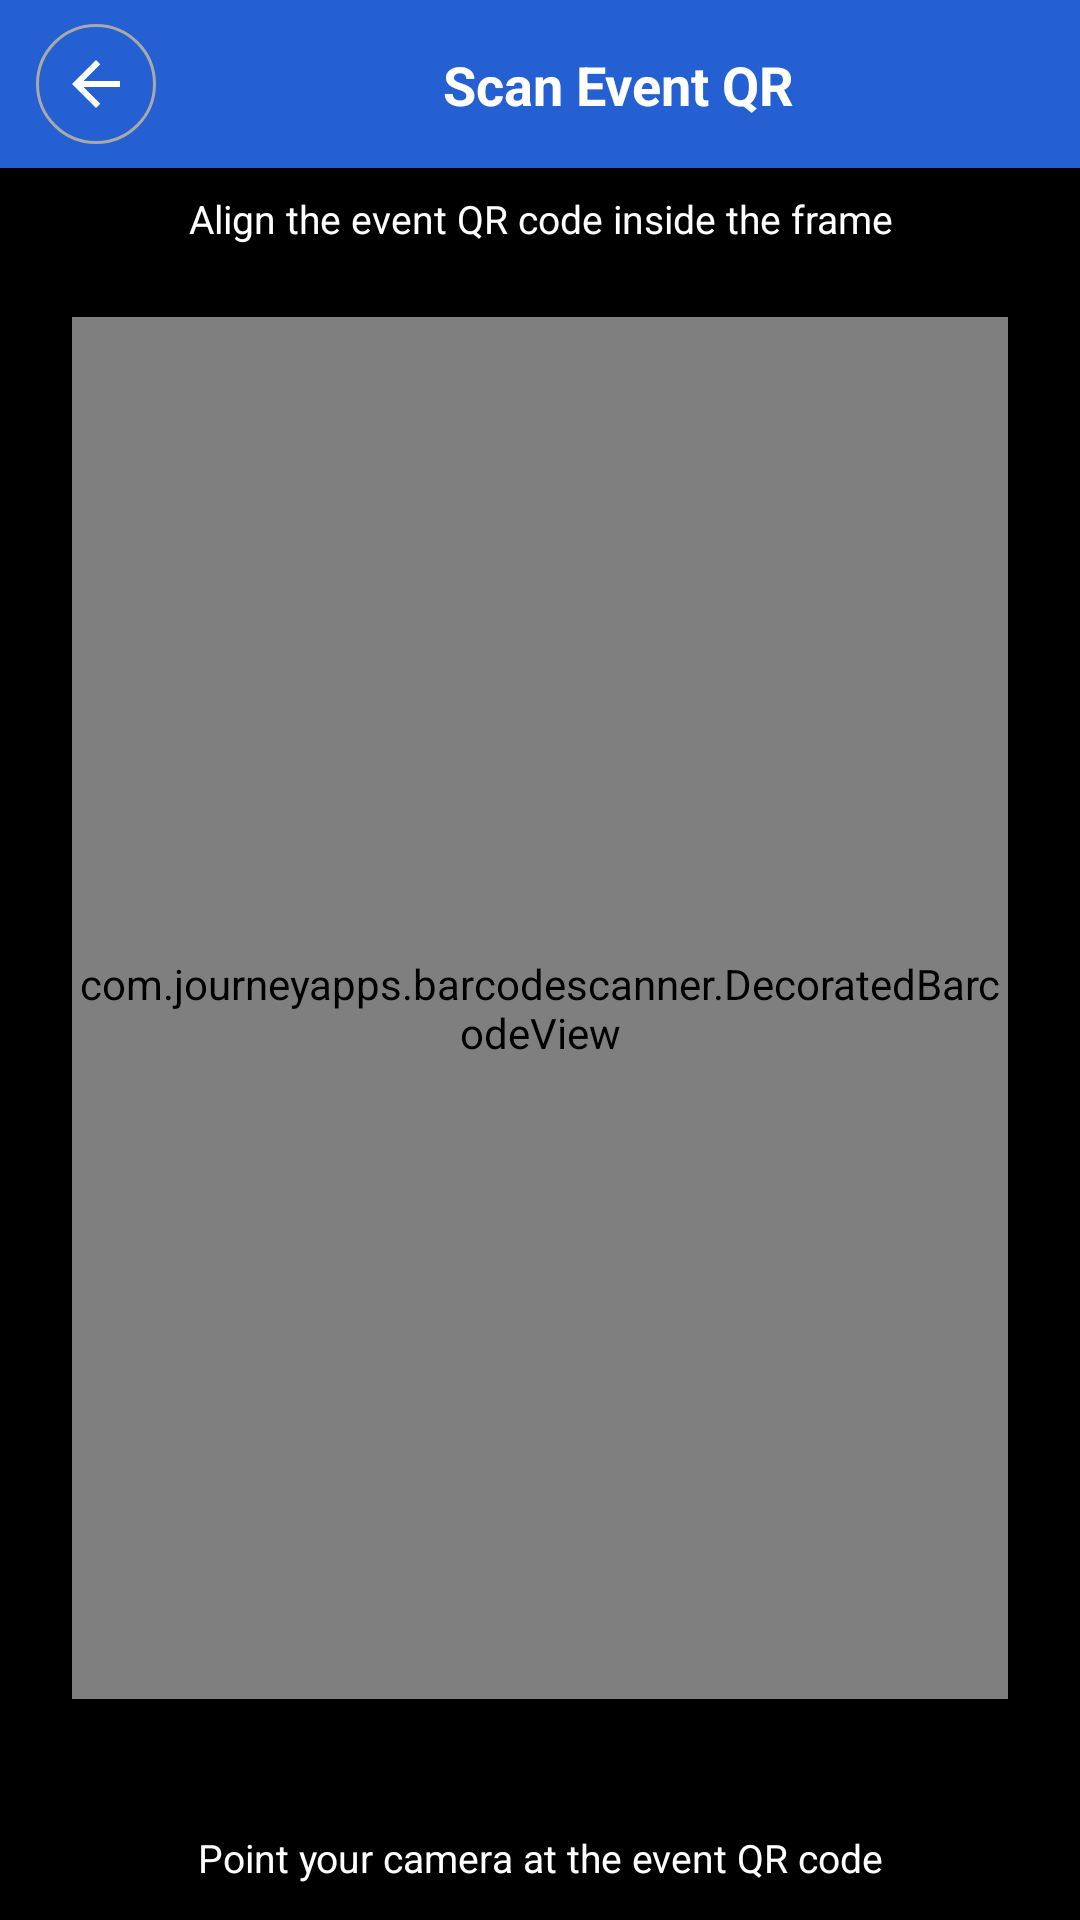

Icon click points for this 1080x1920 phone screenshot, format point (x, y):
arrow back: point (96, 84)
